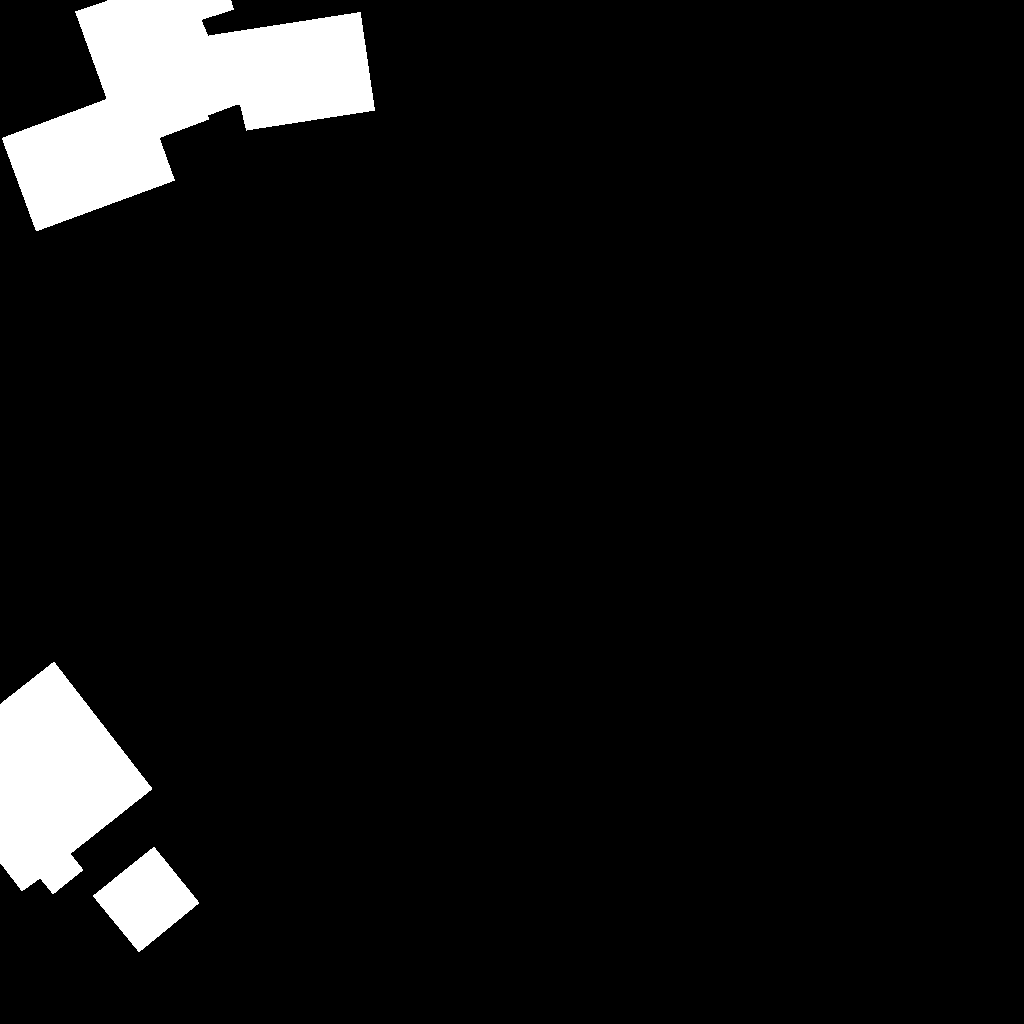building: (2, 0, 376, 232), (0, 662, 153, 895), (93, 847, 200, 953)
